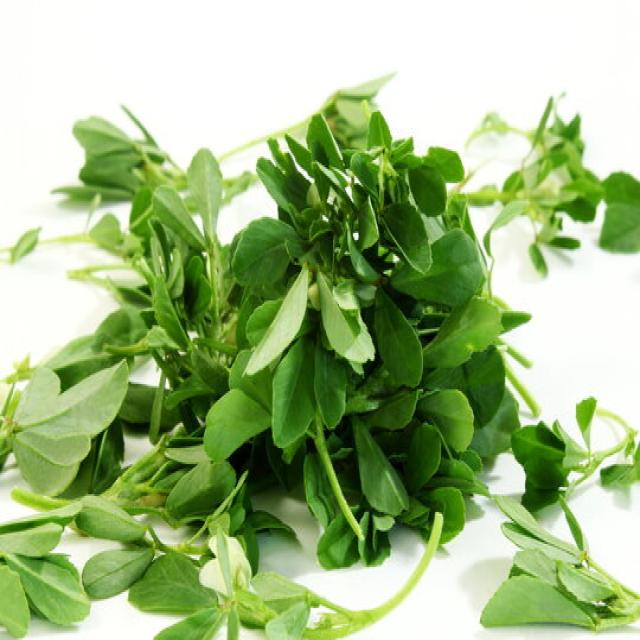Fenugreek: (155, 94, 520, 576)
